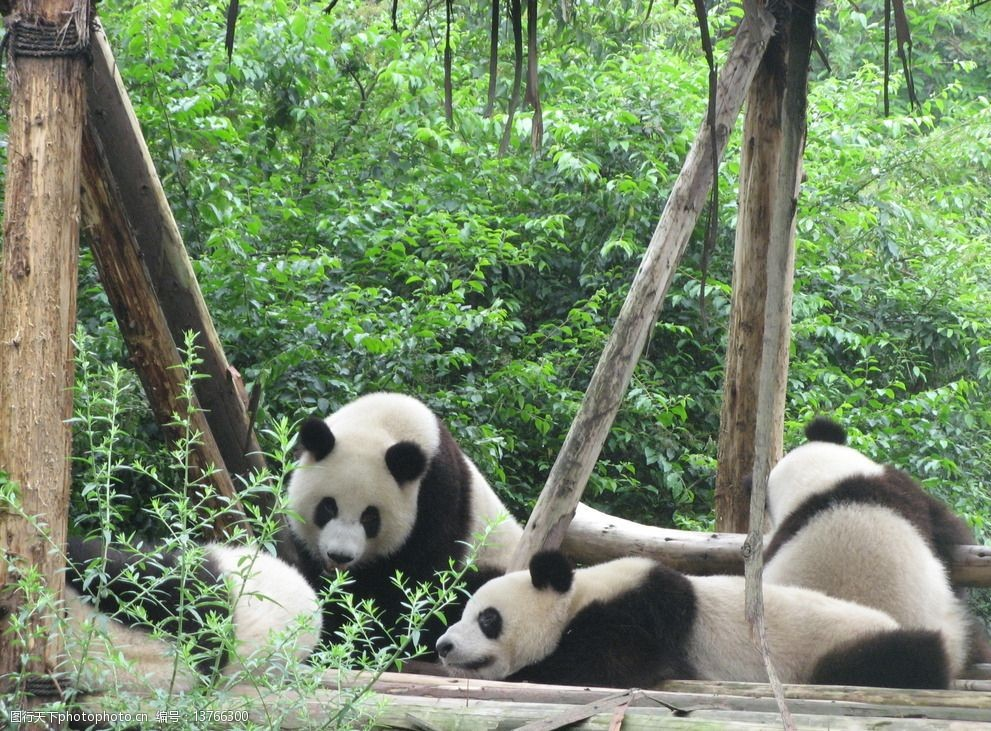panda: (447, 548, 944, 710), (749, 421, 981, 697), (268, 394, 540, 615), (68, 519, 354, 668)
